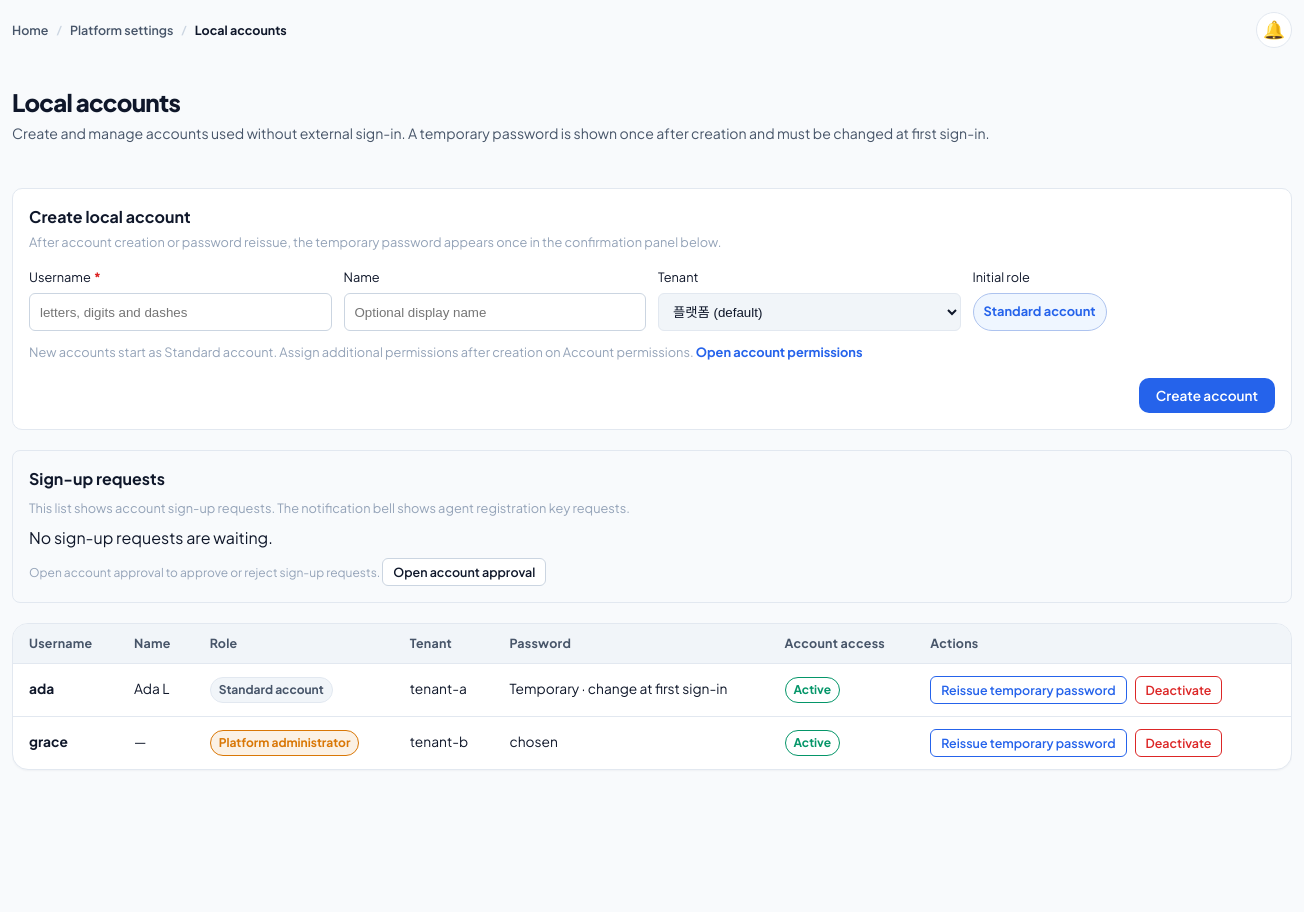
it: password reissue from the account list › states that no replacement was issued when the server did not answer
What coordinates should you click on to do the following:
click the button with test id "reissue-ada"
I would click on:
 (1028, 690)
Its box is top-left (930, 676), bottom-right (1126, 704).
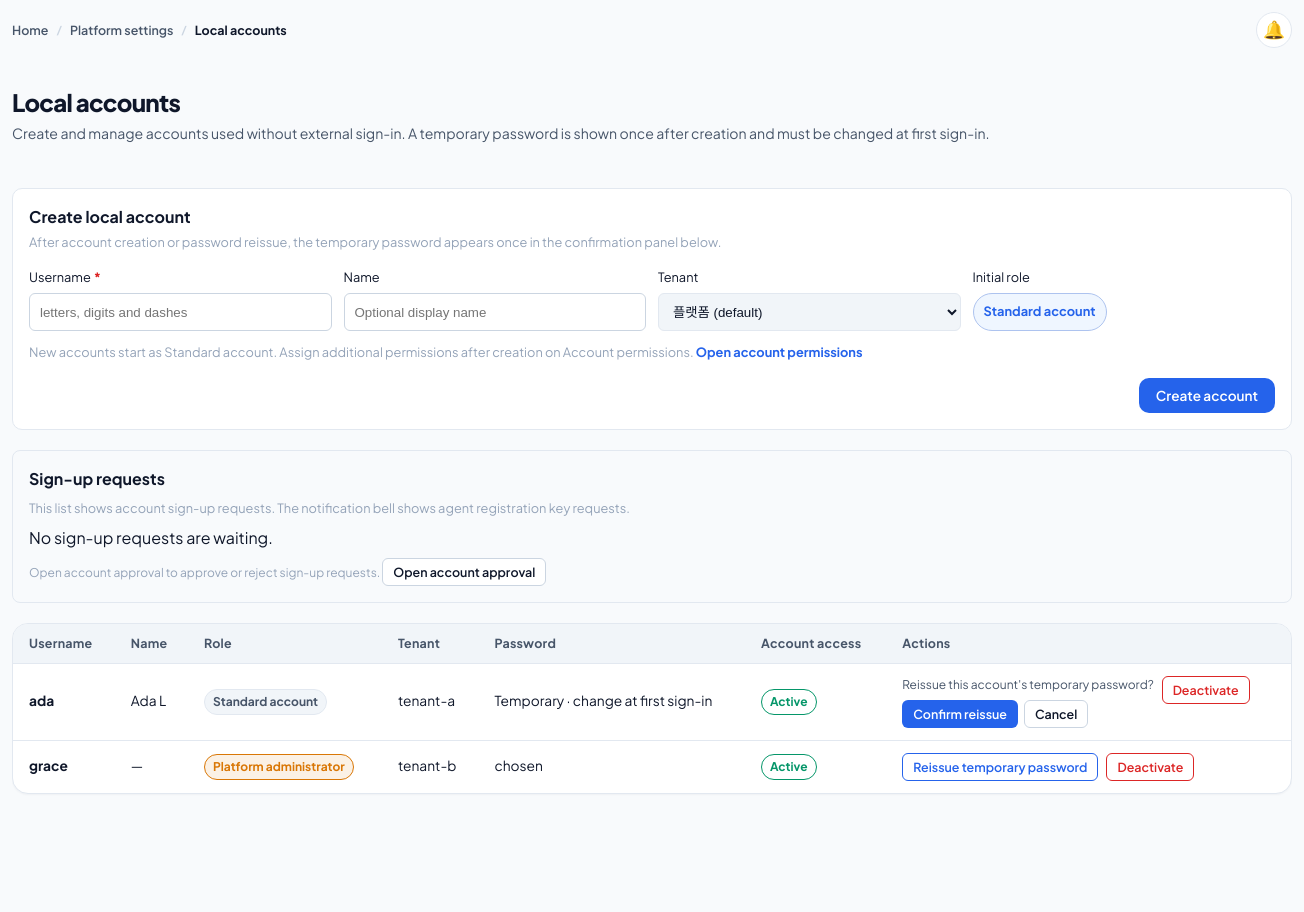
What coordinates should you click on to do the following:
click the button with test id "reissue-confirm-submit-ada"
I would click on:
 (960, 714)
Its box is top-left (902, 700), bottom-right (1018, 728).
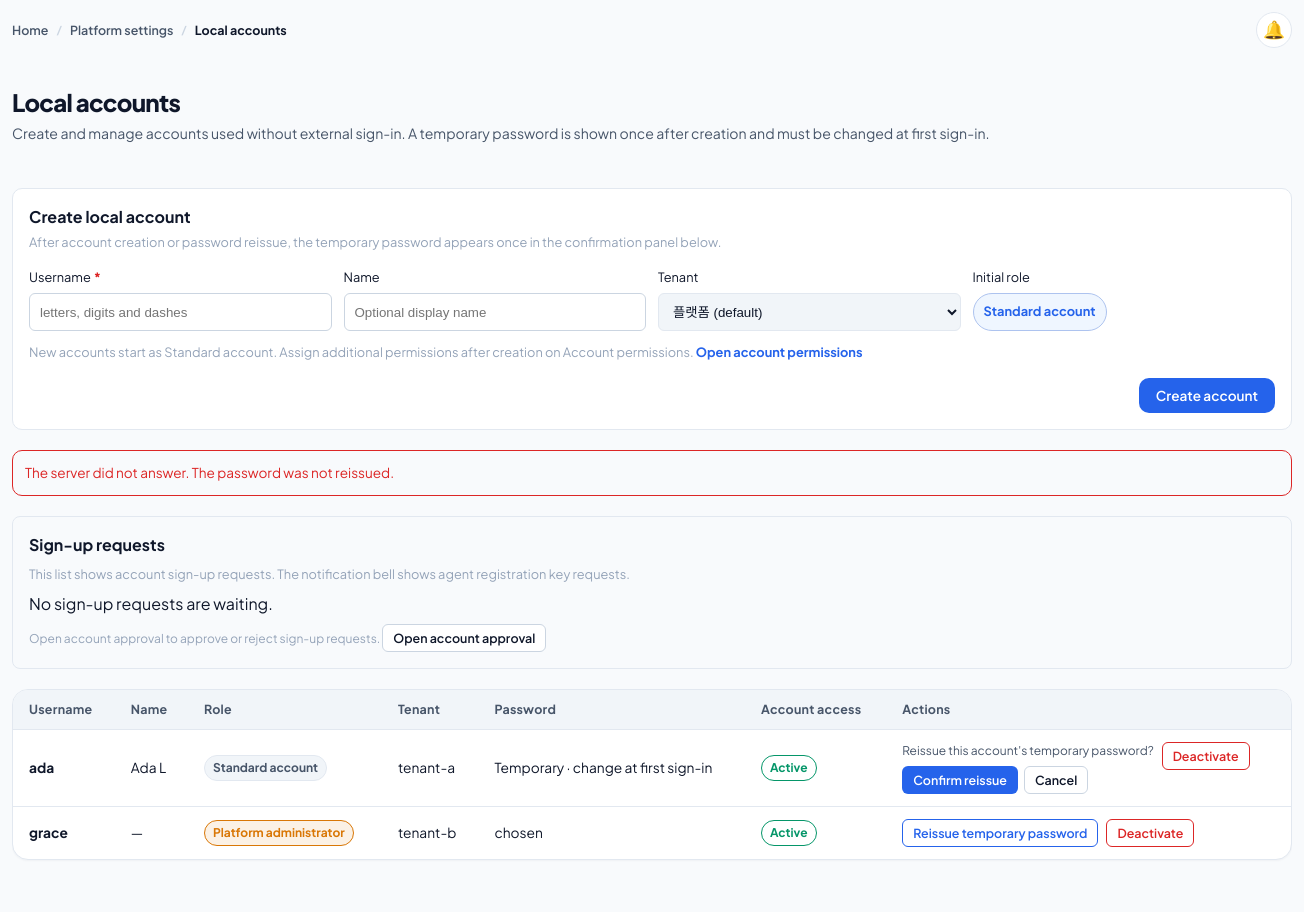
Expected: the text with test id "reissue-error" reads "The server did not answer. The password was not reissued.", top-left (25, 464), bottom-right (394, 481)
